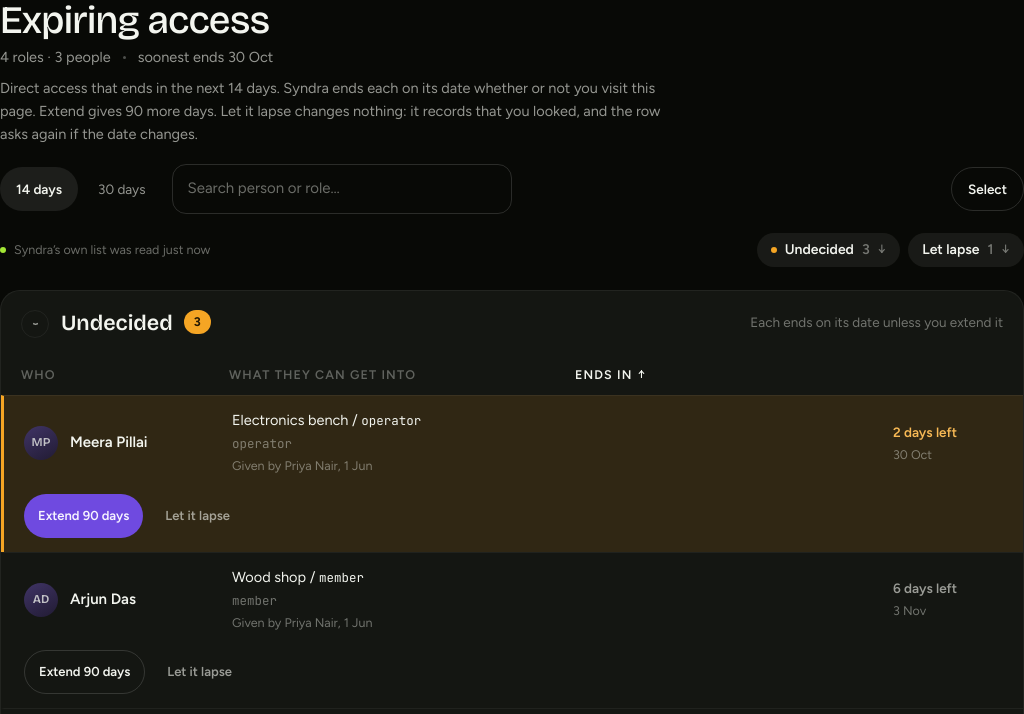
Test case: Expiring access — search › finds a role by its project and by its key
Type "wood" into the field named "Search expiring access by person or role" at [342, 189], box x1=172 y1=164 x2=512 y2=214
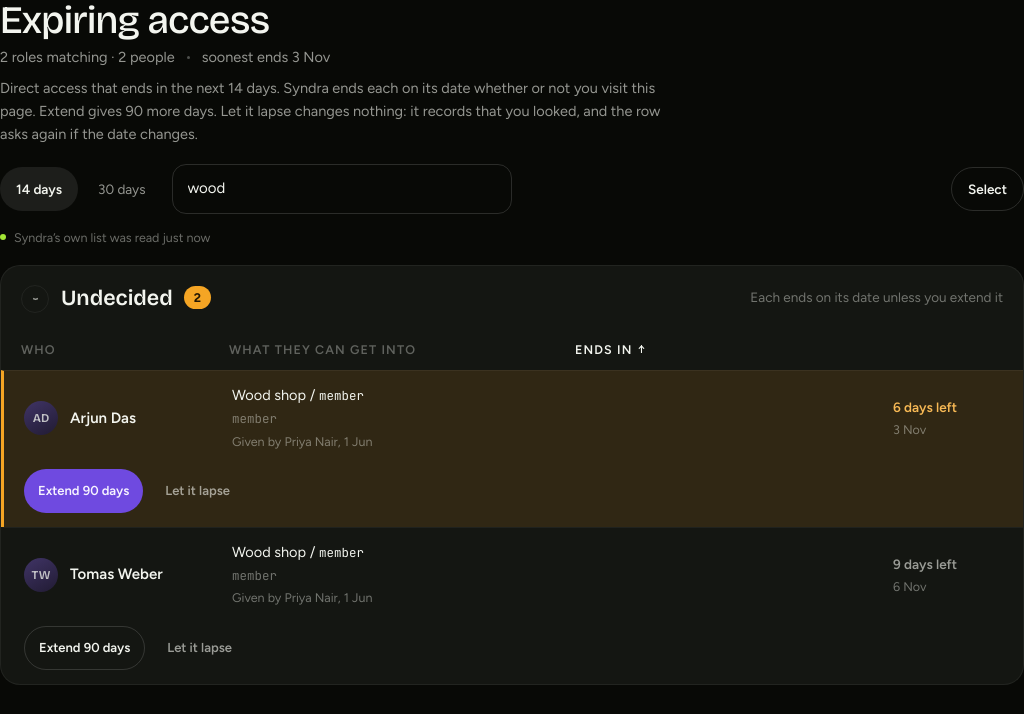
Expected: the text "Tomas Weber" is shown, x1=70 y1=565 x2=163 y2=583
Now the link "Meera Pillai" is gone
Replace the text in the field named "Search expiring access by person or role" with "operator" at [342, 189], box x1=172 y1=164 x2=512 y2=214
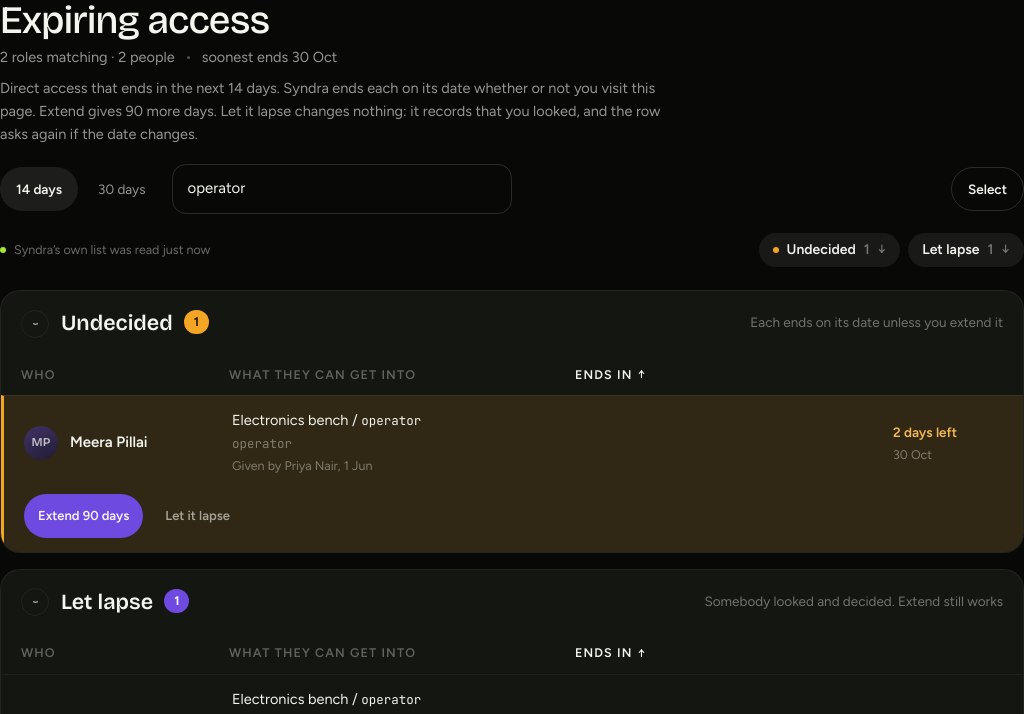
Now the text "Meera Pillai" is shown, box x1=70 y1=433 x2=148 y2=451
Now the link "Tomas Weber" is gone
